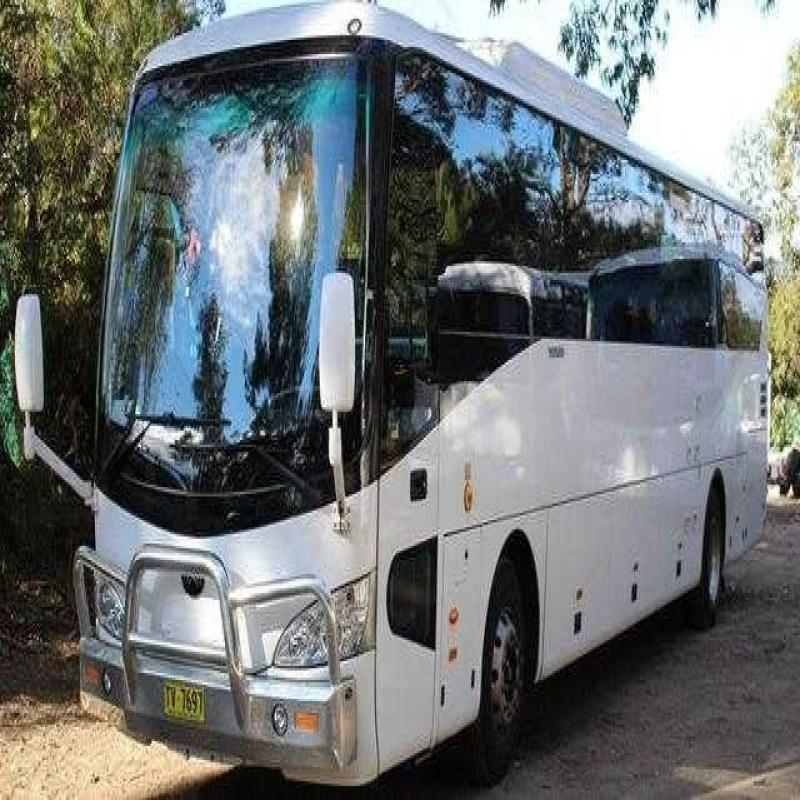bus: (79, 0, 781, 788)
